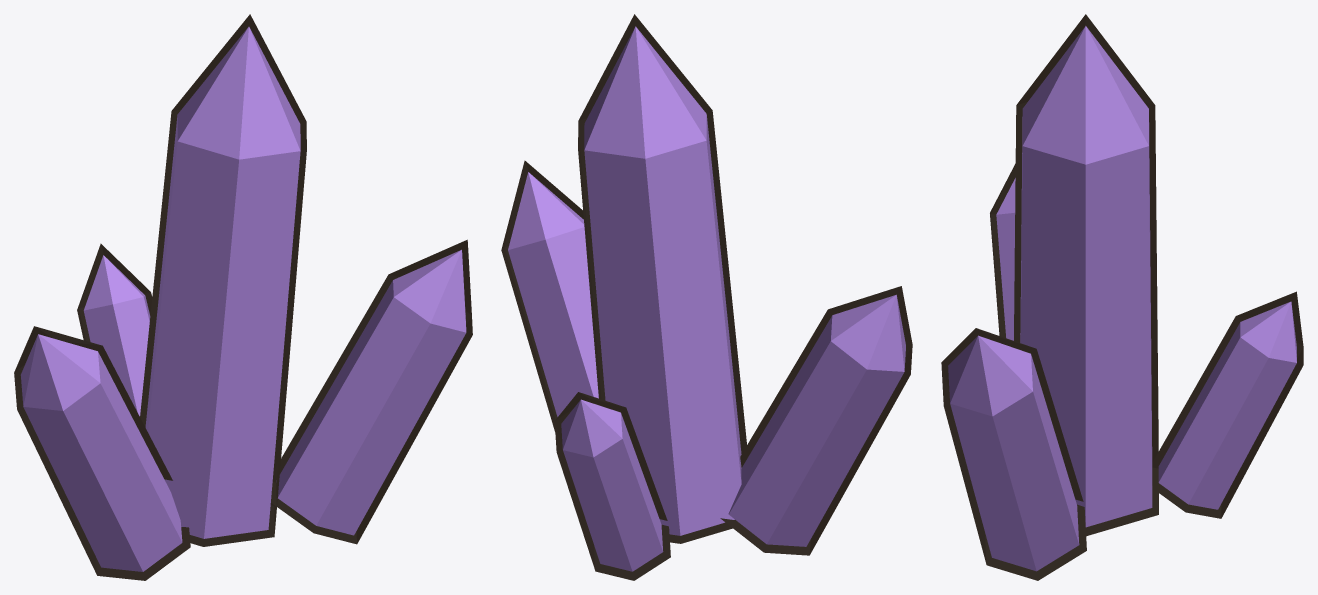
The model's file is crystal_02.glb.
The picture shows the model from 3 angles, left to right: view 1: azimuth 30°, elevation 25°; view 2: azimuth 150°, elevation 25°; view 3: azimuth 270°, elevation 25°; orthographic projection. The views are drawn at different scales.
Parts seen in each view (by area): view 1: OBJ_crystal_02; view 2: OBJ_crystal_02; view 3: OBJ_crystal_02.
Part boxes in pixels (x1=…): OBJ_crystal_02: x1=14, y1=14, x2=472, y2=580; OBJ_crystal_02: x1=501, y1=14, x2=912, y2=580; OBJ_crystal_02: x1=941, y1=14, x2=1303, y2=580.
Bounding box in the file's own units: 0.399 × 0.453 × 0.2827.
